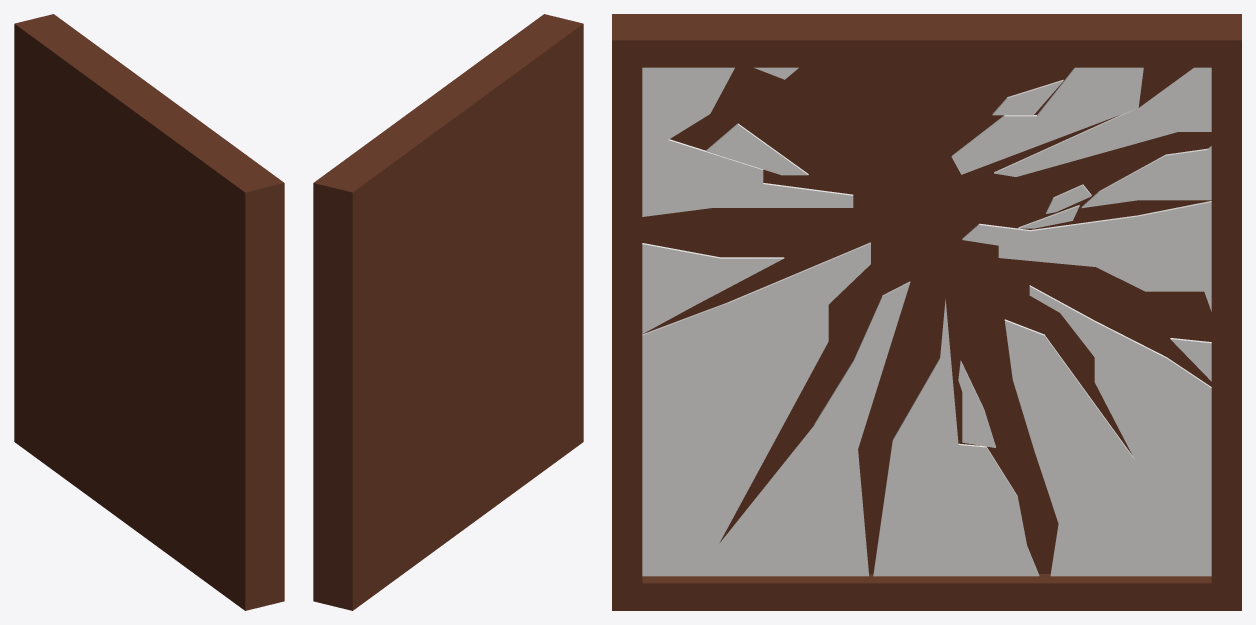
File: cornice.fbx
The picture shows the model from 3 angles, left to right: view 1: azimuth 30°, elevation 25°; view 2: azimuth 150°, elevation 25°; view 3: azimuth 270°, elevation 25°; orthographic projection. The views are drawn at different scales.
Parts seen in each view (by area): view 1: Cubo; view 2: Cubo; view 3: Cubo, vetro.
Boxes of the visible parts, left/top/right/bottom form: Cubo: left=14, top=14, right=284, bottom=610; Cubo: left=313, top=14, right=583, bottom=610; Cubo: left=612, top=14, right=1241, bottom=610; vetro: left=642, top=67, right=1211, bottom=576.
Bounding box in the file's own units: 48.41 × 491 × 491.
